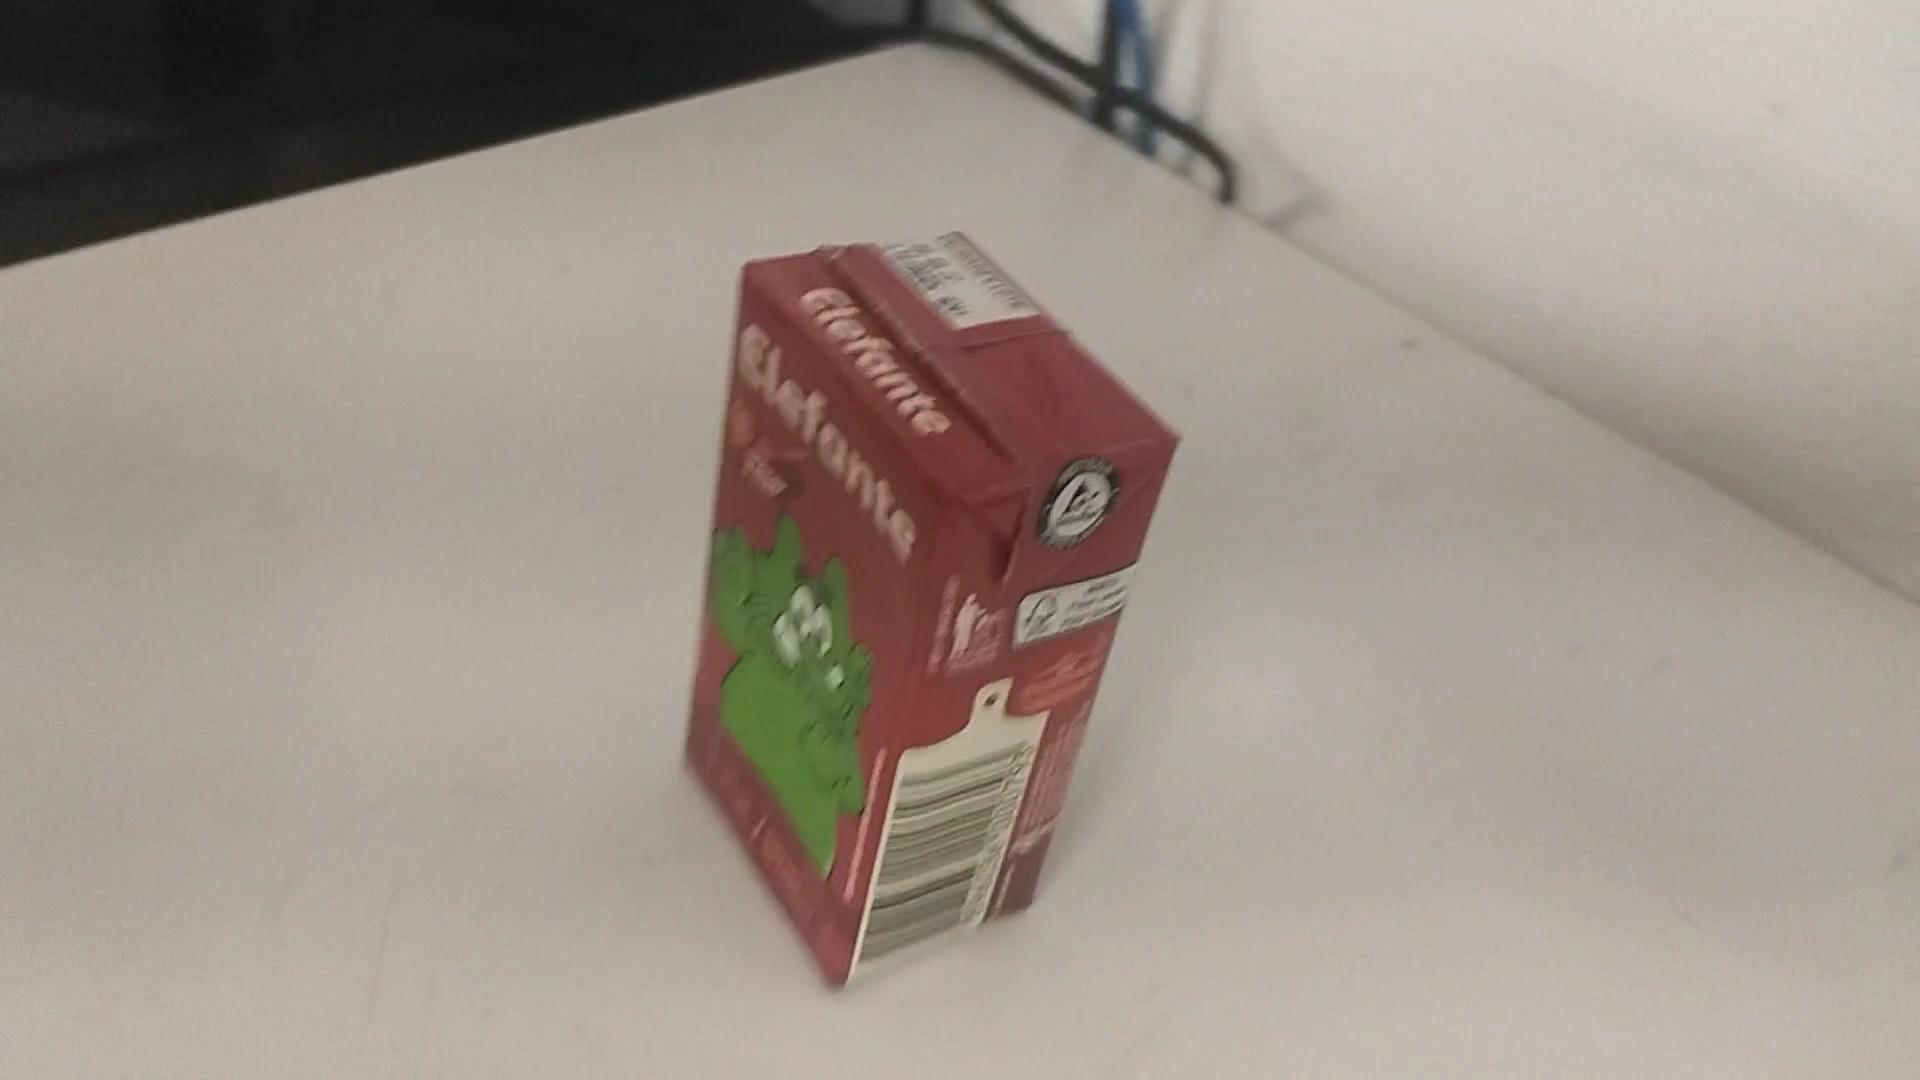tomate: (686, 214, 1197, 992)
